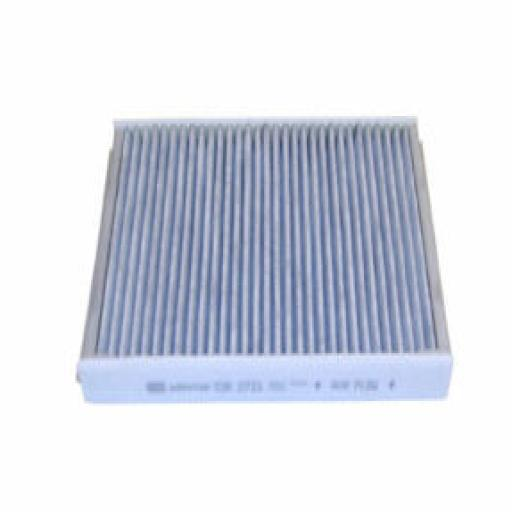cabin_filter: (68, 88, 458, 413)
